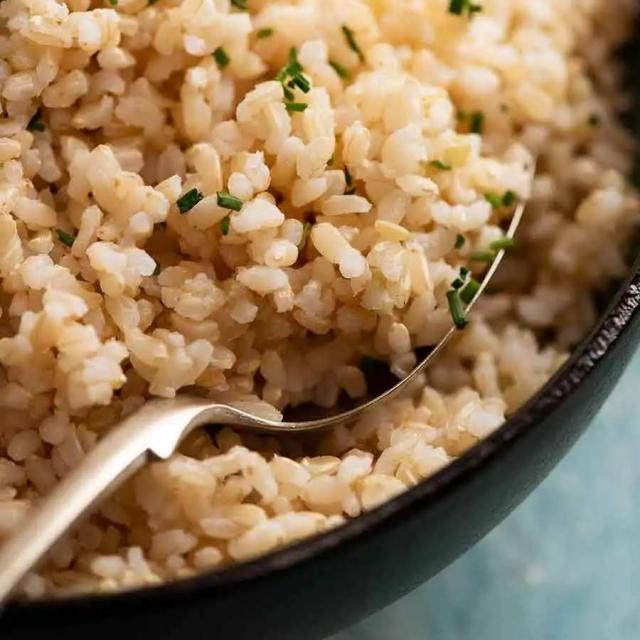rice: (0, 1, 636, 598)
